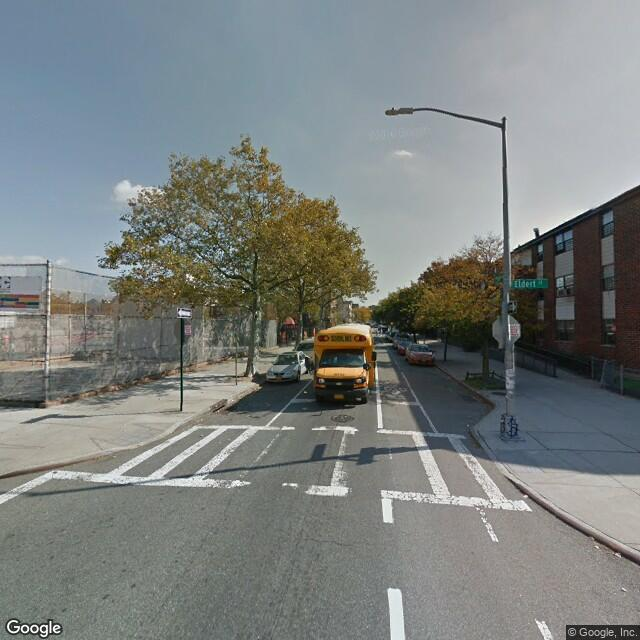litter: (592, 540, 634, 567)
